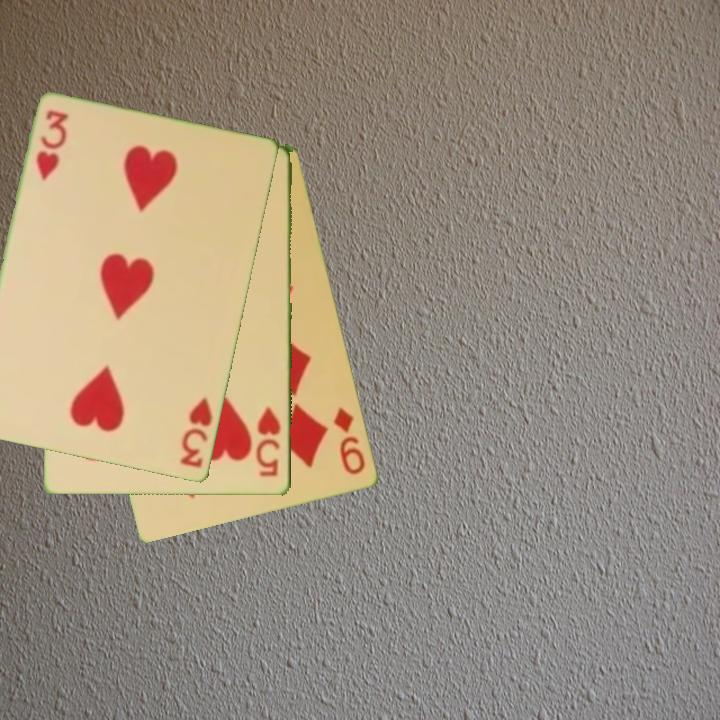3h: (33, 106, 72, 184), (176, 395, 216, 471)
5h: (253, 404, 284, 480)
9d: (330, 404, 369, 478)
